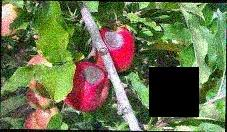rotten apple: (60, 59, 112, 112), (87, 28, 140, 72)
